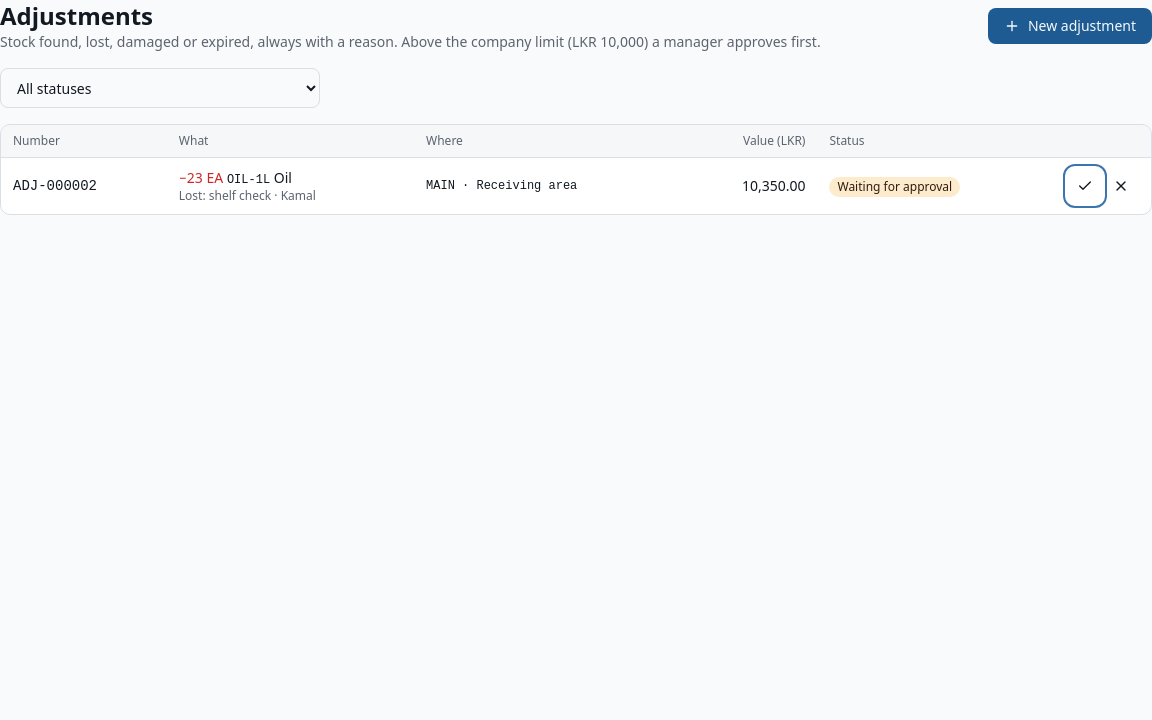
Test case: lists a pending adjustment for approval and asks for a new one with a reason
This screenshot has width=1152, height=720.
Earlier steps of the test are not shown.
Click the button "New adjustment" at [1070, 26], box [988,8,1151,44]
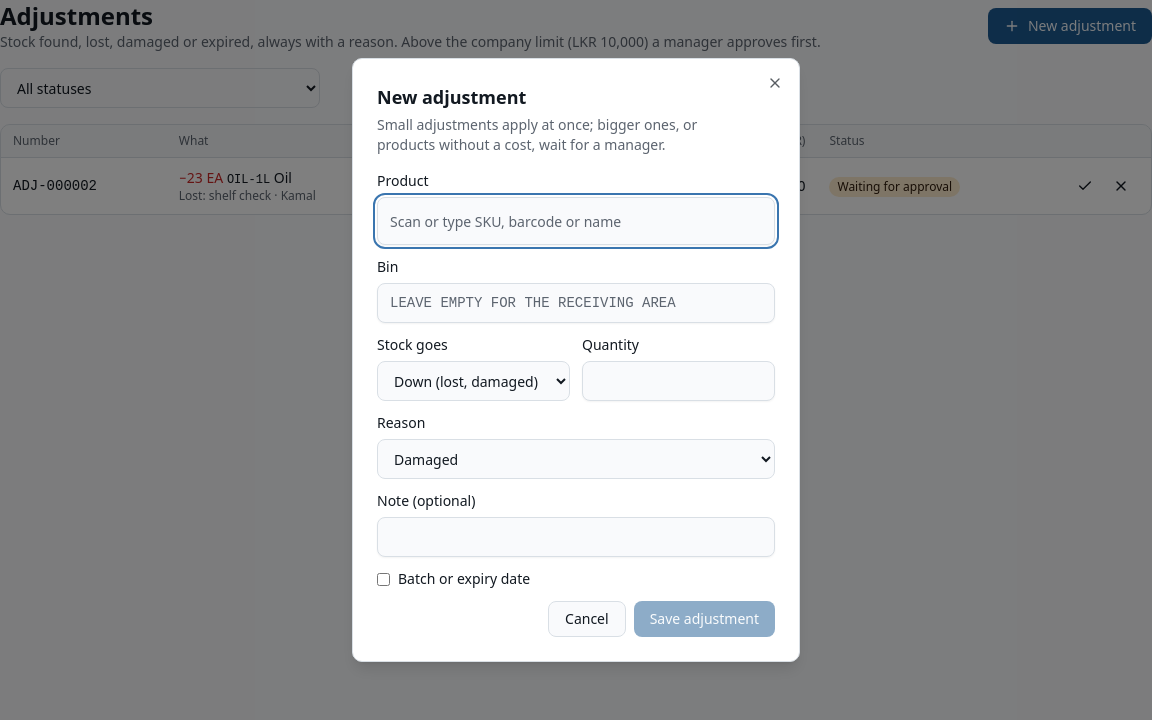
Type "oil" into the field labelled "Product" at [576, 221], box [377,197,775,245]
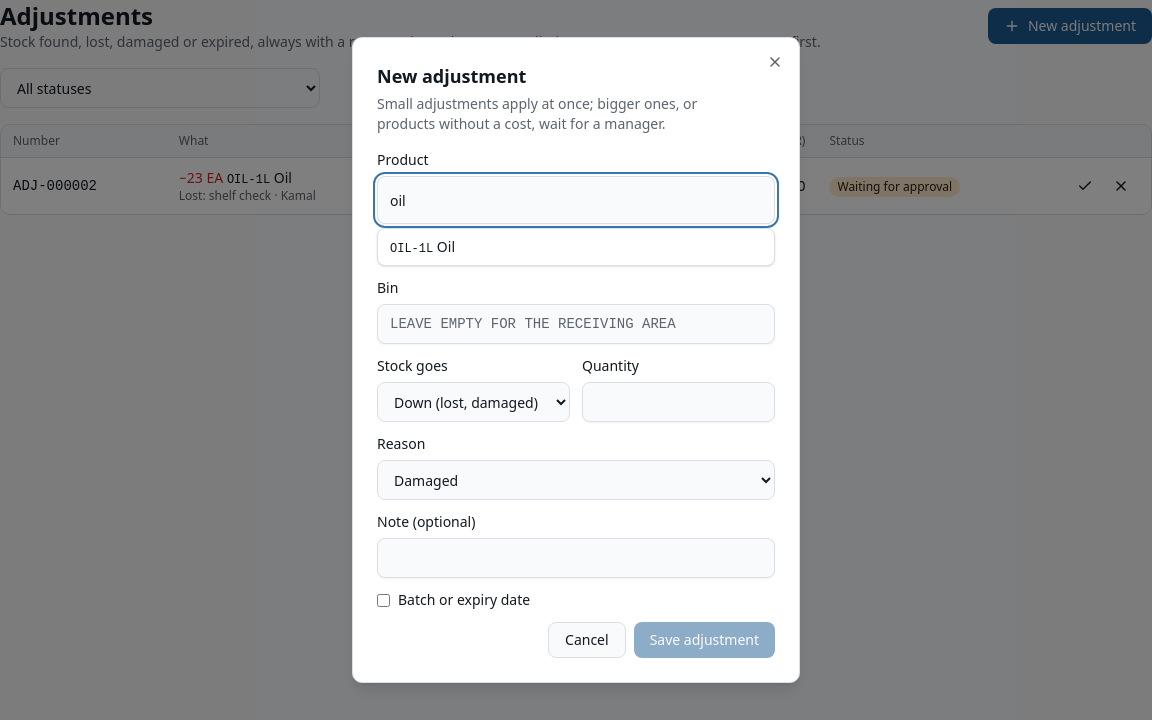
Click the button "OIL-1L Oil" at [412, 249], box [378,229,774,265]
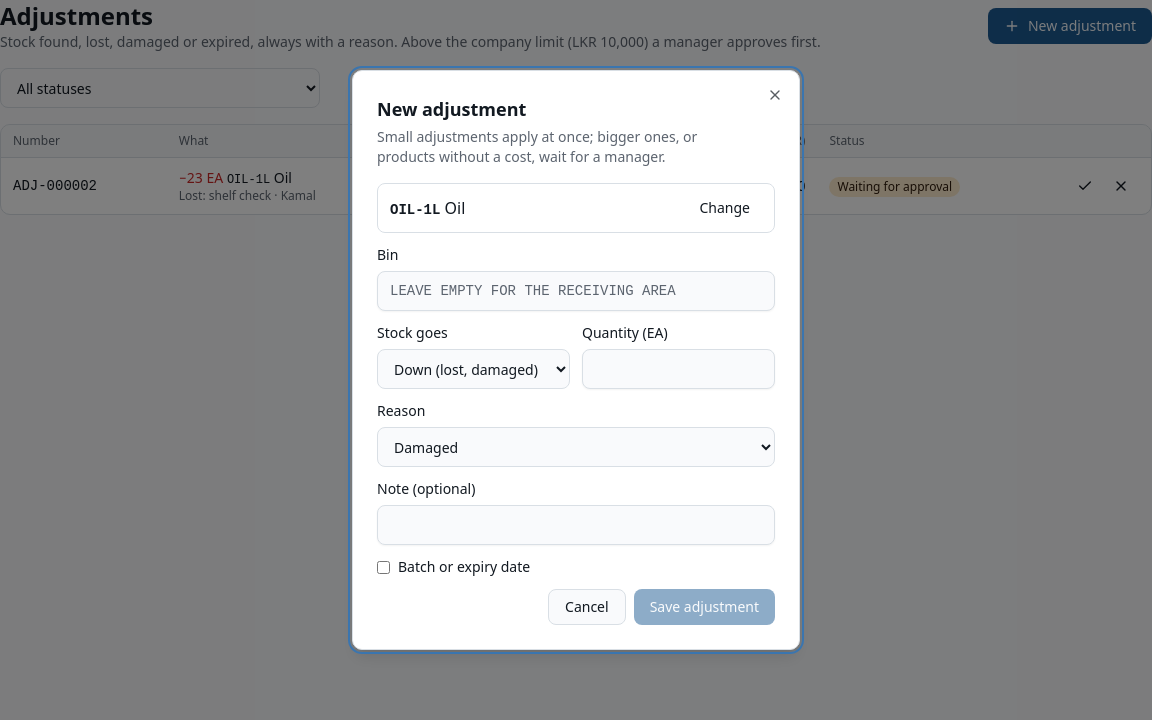
Type "2" into the field labelled "Quantity (EA)" at [678, 369], box [582,349,775,389]
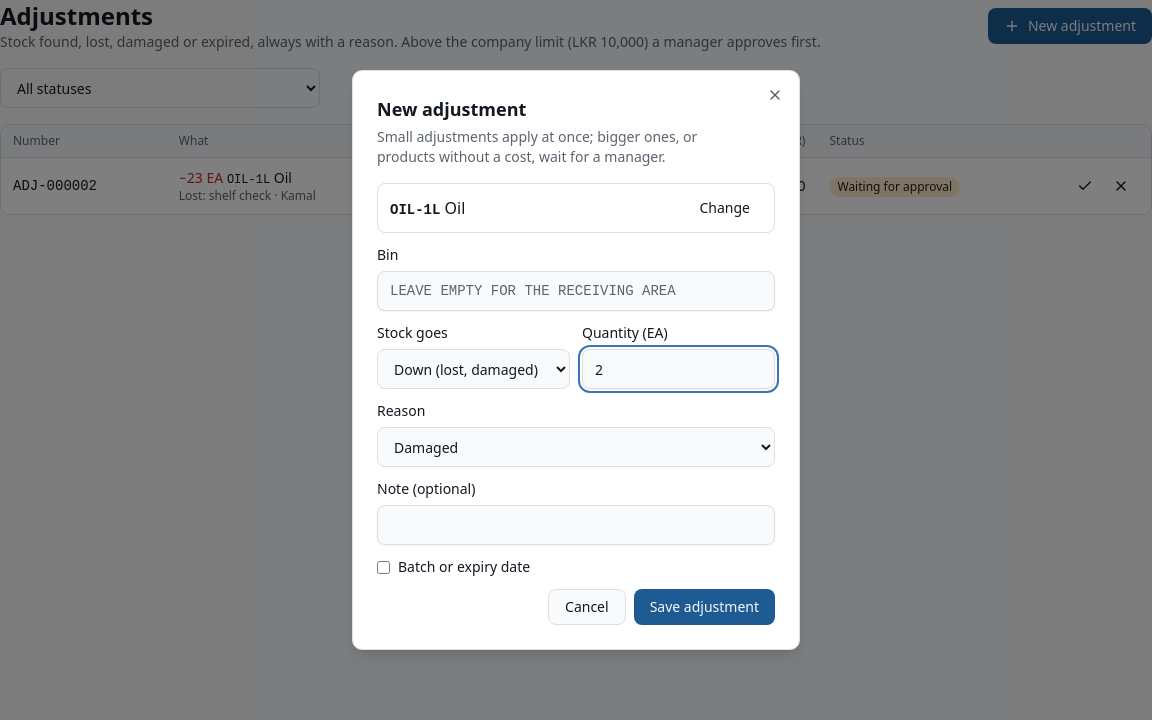
Select "Expired" in the dropdown labelled "Reason" at [576, 447], box [377,427,775,467]
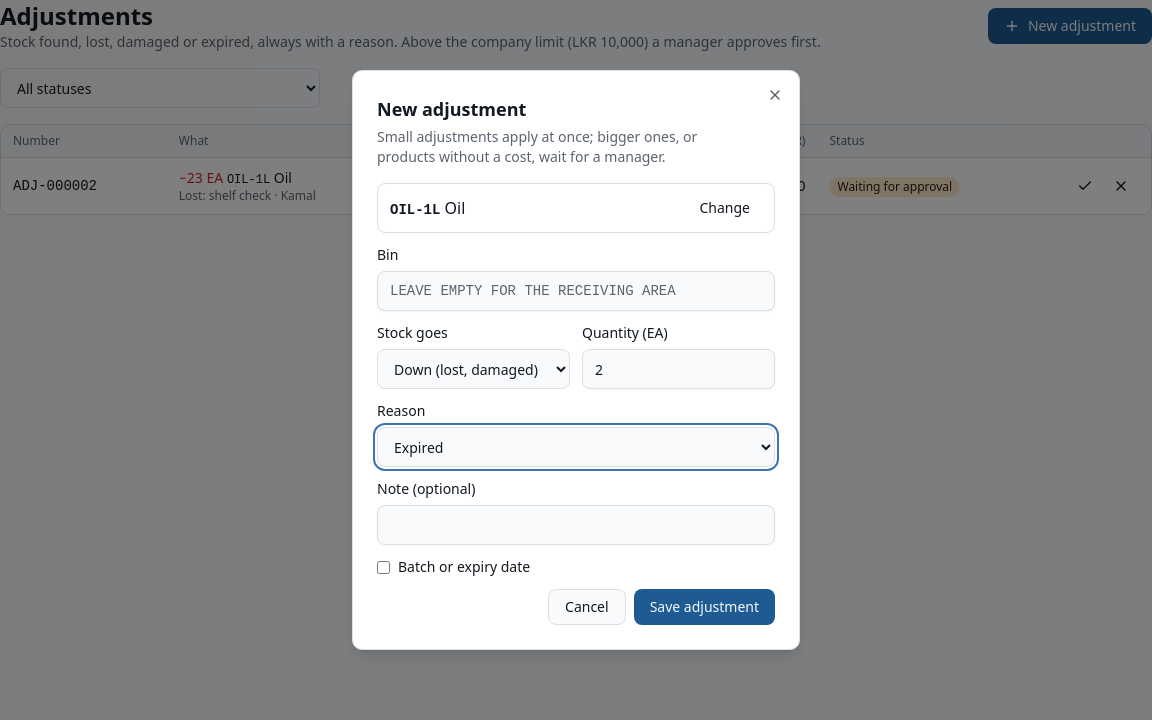
Click the button "Save adjustment" at [704, 607], box [634,589,775,625]
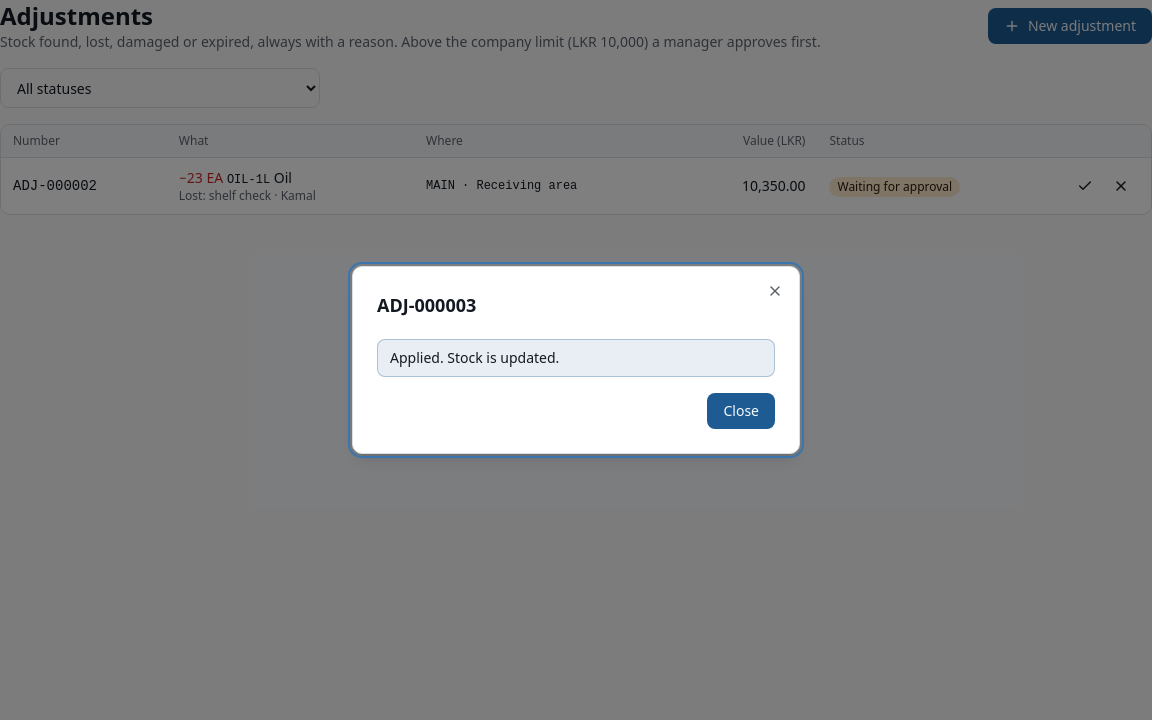
Expected: the text "Applied. Stock is updated." is shown, [377,339,775,377]
